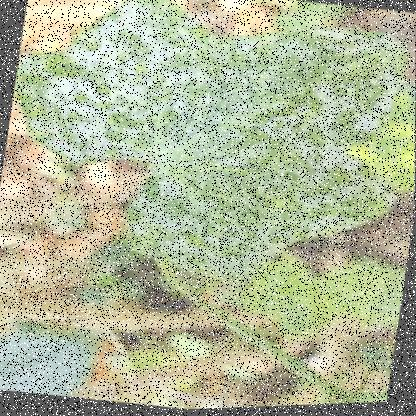PowderyMildew: (171, 42, 383, 250), (48, 16, 243, 172)
